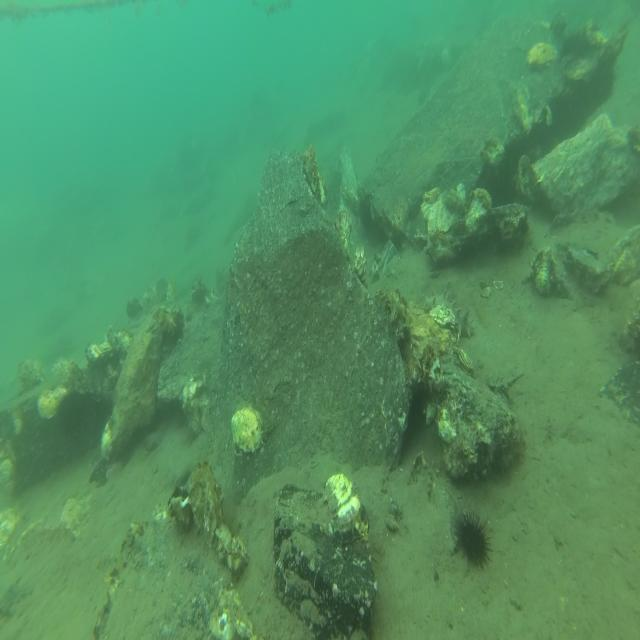echinus: (452, 503, 496, 574), (49, 386, 92, 434), (562, 25, 592, 57)
holothurian: (423, 287, 476, 340)
